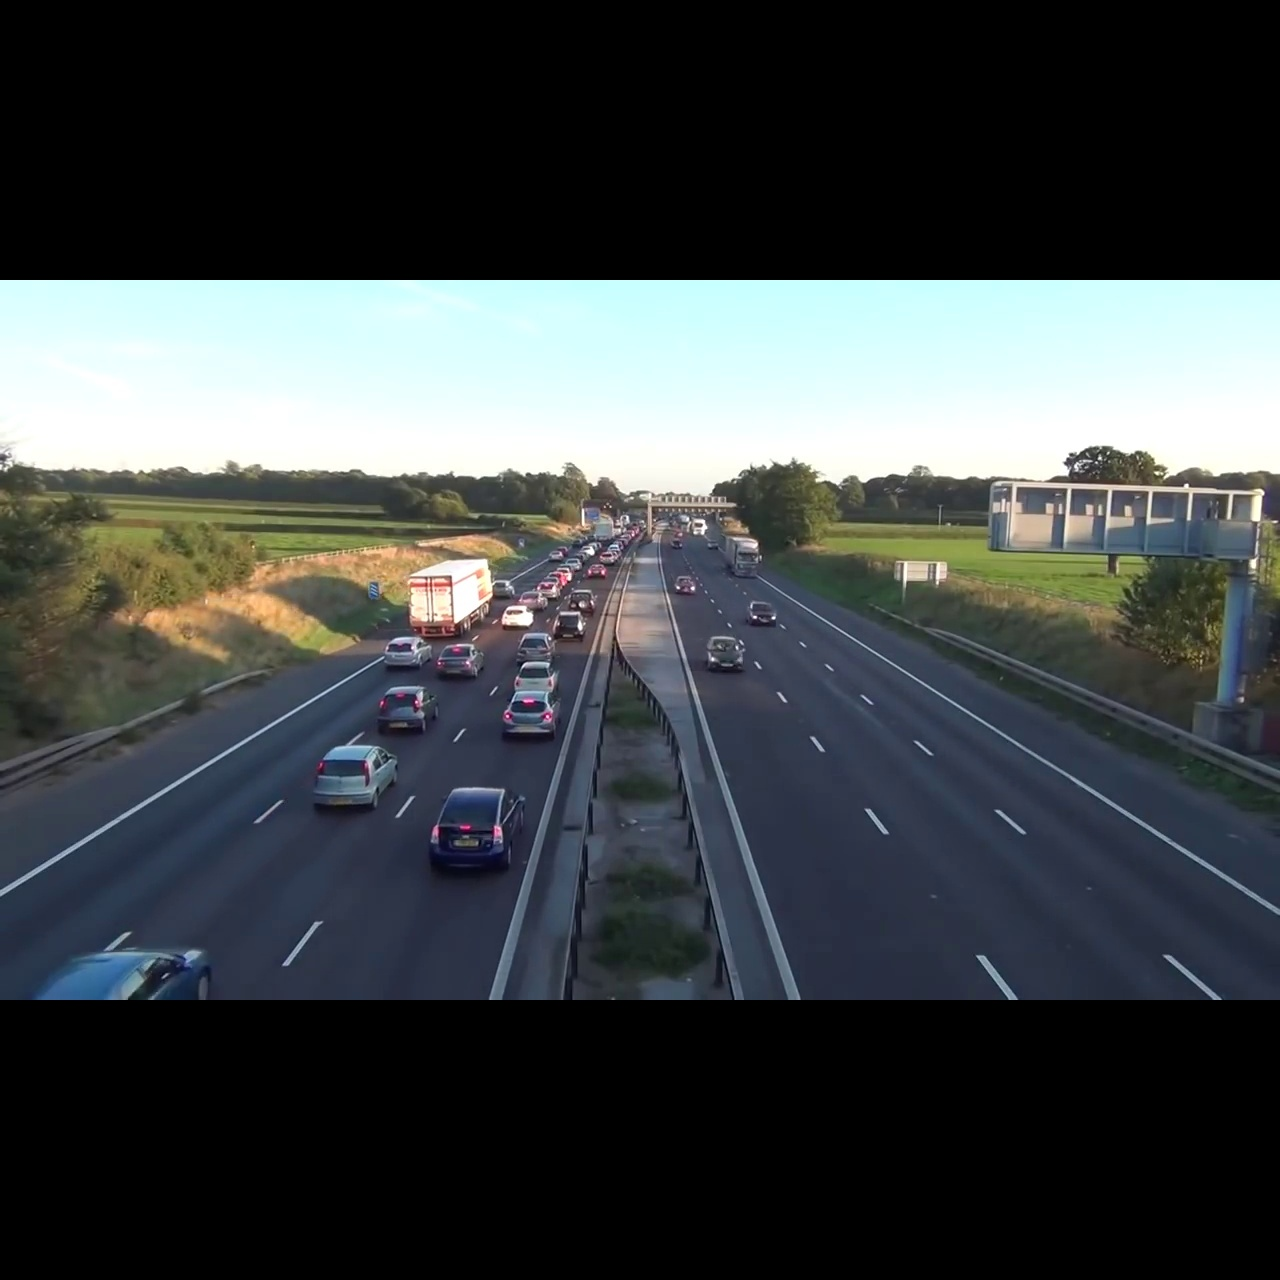vehicle: (28, 940, 219, 1000), (425, 784, 531, 876), (408, 559, 493, 636), (312, 742, 400, 816), (375, 683, 441, 735), (501, 692, 563, 742), (435, 641, 491, 681), (382, 635, 434, 670), (704, 634, 745, 672), (513, 661, 561, 692), (551, 610, 590, 644), (516, 632, 557, 661), (501, 602, 535, 632), (743, 600, 778, 628), (568, 588, 600, 612), (673, 573, 697, 595)
